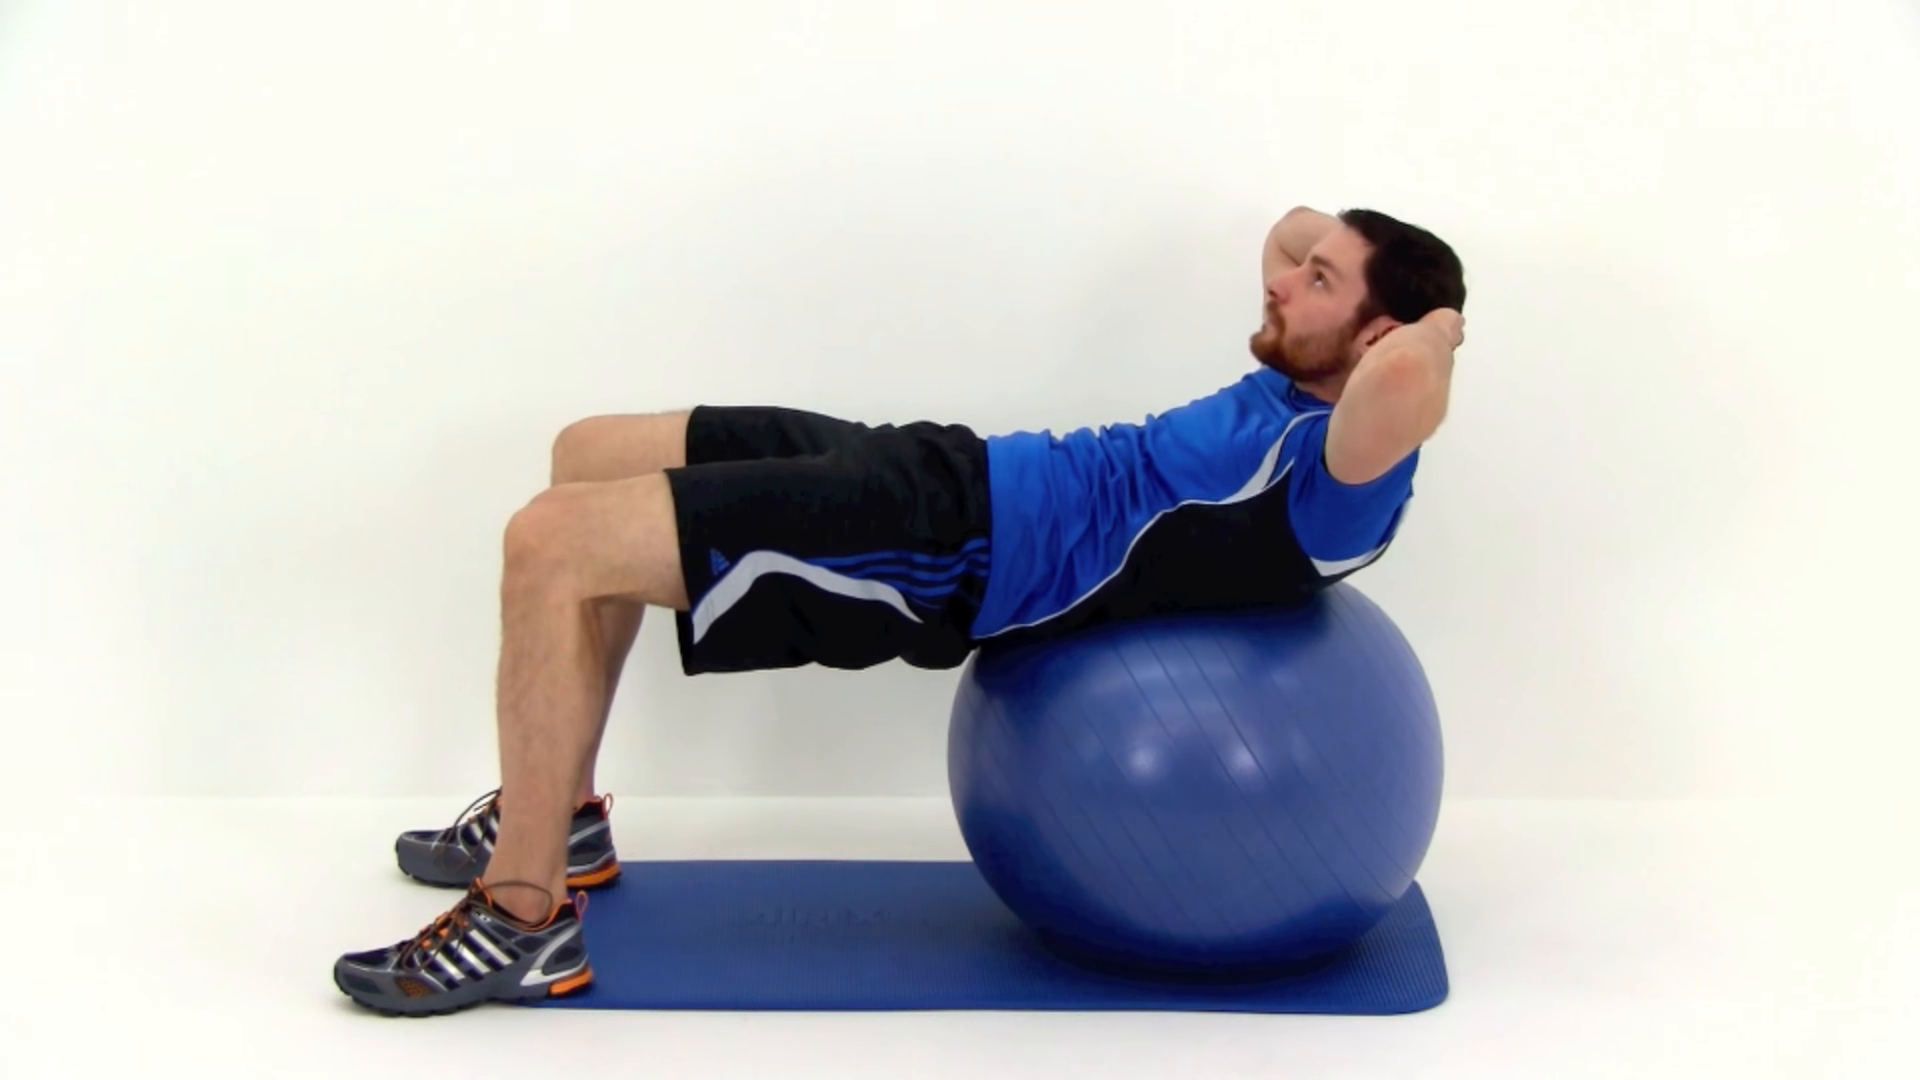yogaball: (938, 545, 1455, 992)
